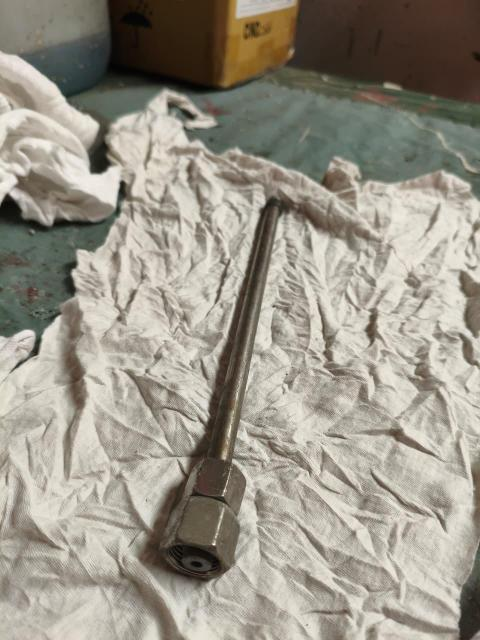Metal: (168, 193, 292, 578)
